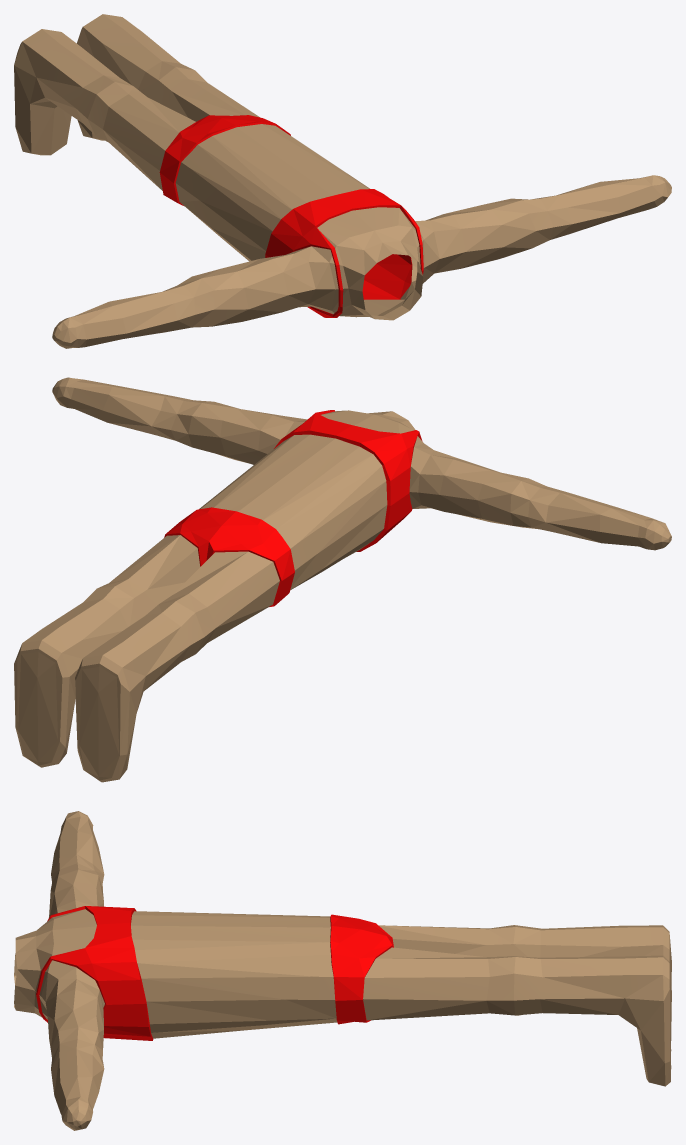
Rendered from Bikini.glb.
The picture shows the model from 3 angles, top to bottom: view 1: azimuth 30°, elevation 25°; view 2: azimuth 150°, elevation 25°; view 3: azimuth 270°, elevation 25°; orthographic projection.
Parts seen in each view (by area): view 1: Bikini; view 2: Bikini; view 3: Bikini.
Boxes of the visible parts, left/top/right/bottom form: Bikini: left=14, top=14, right=671, bottom=348; Bikini: left=14, top=377, right=671, bottom=782; Bikini: left=14, top=811, right=671, bottom=1130.
Bounding box in the file's own units: 1.21 × 0.275 × 1.11.
Materials: 1 (1 with a texture image).
